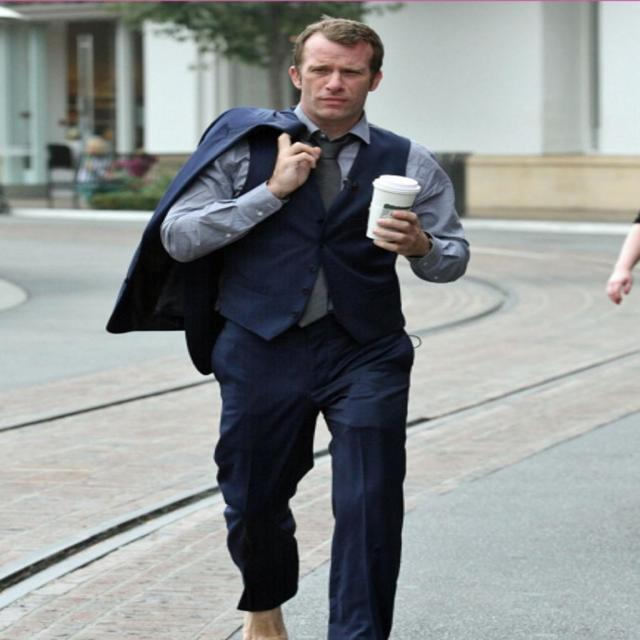Face: (289, 23, 387, 122)
